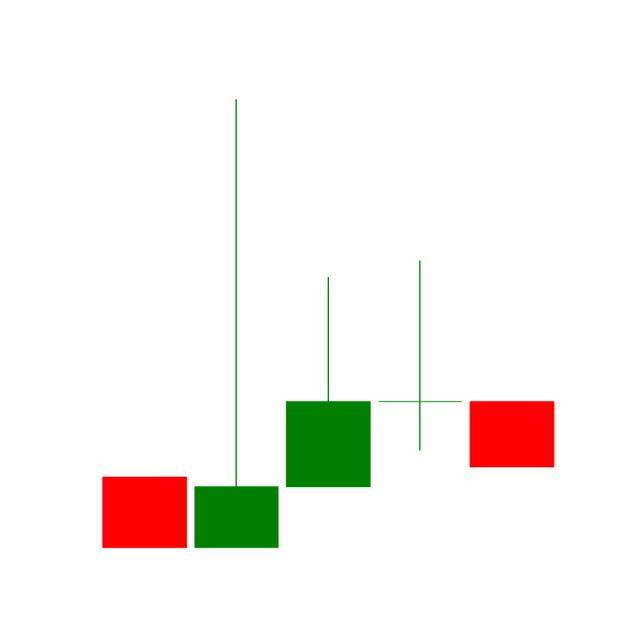Spinning Top: (374, 259, 468, 454)
